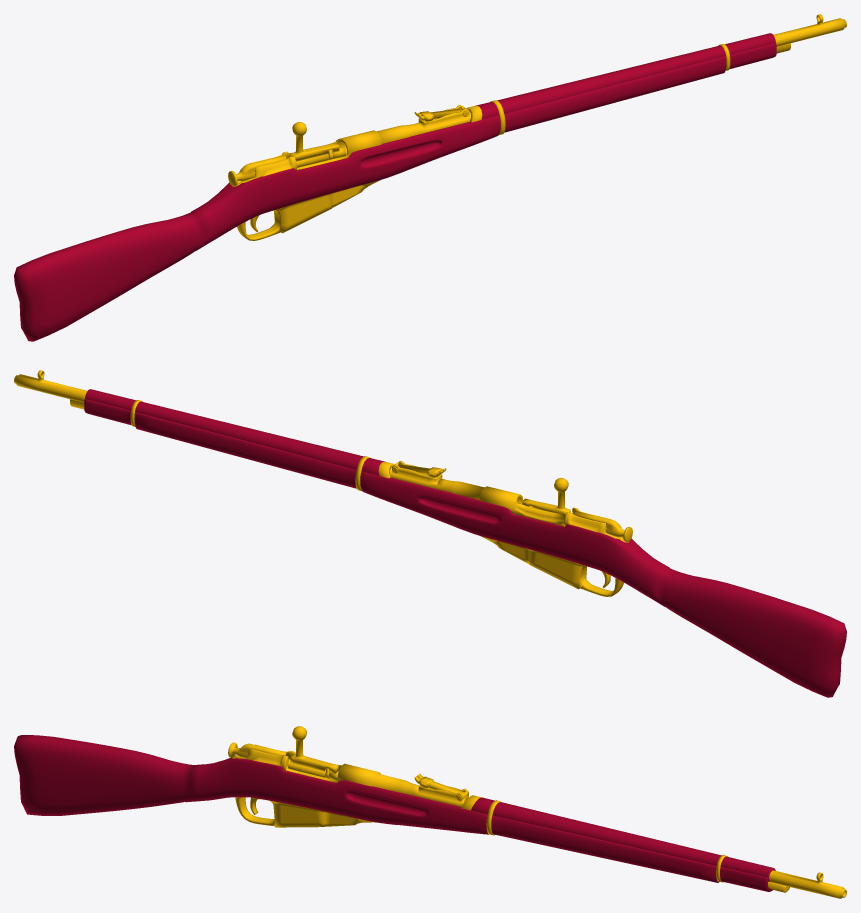
The model's file is Mosin Nagant.fbx.
3 views of the same model, one above another, from view 1: azimuth 30°, elevation 25°; view 2: azimuth 150°, elevation 25°; view 3: azimuth 330°, elevation 25° (orthographic).
Parts seen in each view (by area): view 1: Cube, Cylinder.001, Cylinder.003, Cylinder.005, Cylinder.006; view 2: Cube, Cylinder.001, Cylinder.003, Cylinder.006; view 3: Cube, Cylinder.001, Cylinder.003, Cylinder.005, Cylinder.006, Cube.002.
Boxes of the visible parts, left/top/right/bottom form: Cube: left=14, top=43, right=790, bottom=341; Cylinder.001: left=466, top=33, right=775, bottom=122; Cylinder.003: left=232, top=14, right=846, bottom=186; Cylinder.005: left=228, top=147, right=346, bottom=186; Cylinder.006: left=289, top=122, right=339, bottom=161; Cube: left=70, top=399, right=846, bottom=697; Cylinder.001: left=85, top=389, right=394, bottom=478; Cylinder.003: left=14, top=370, right=628, bottom=542; Cylinder.006: left=522, top=478, right=570, bottom=514; Cube: left=14, top=735, right=789, bottom=892; Cylinder.001: left=461, top=795, right=775, bottom=881; Cylinder.003: left=232, top=744, right=846, bottom=898; Cylinder.005: left=228, top=742, right=338, bottom=780; Cylinder.006: left=290, top=726, right=338, bottom=778; Cube.002: left=414, top=774, right=464, bottom=793.
Bounding box in the file's own units: 1950 × 343 × 61.96.
1 material, 1 textured.
